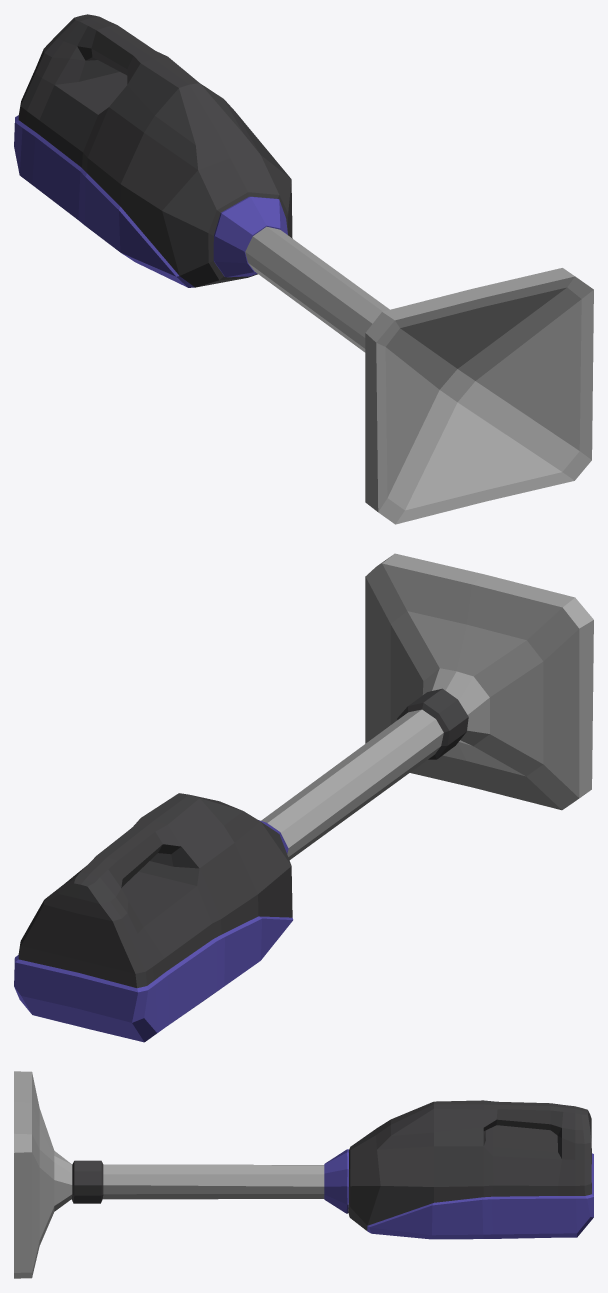
File: Aspirateur.fbx
3 renders of one model, top to bottom at view 1: azimuth 30°, elevation 25°; view 2: azimuth 150°, elevation 25°; view 3: azimuth 270°, elevation 25°, orthographic. The views are drawn at different scales.
Visible parts, largest first — view 1: Aspirateur; view 2: Aspirateur; view 3: Aspirateur.
Boxes of the visible parts, x1,y1,x2,y2 form: Aspirateur: [14, 14, 593, 524]; Aspirateur: [14, 553, 593, 1042]; Aspirateur: [14, 1071, 593, 1278].
Size of the model in its own units: 37.49 by 33.78 by 122.
